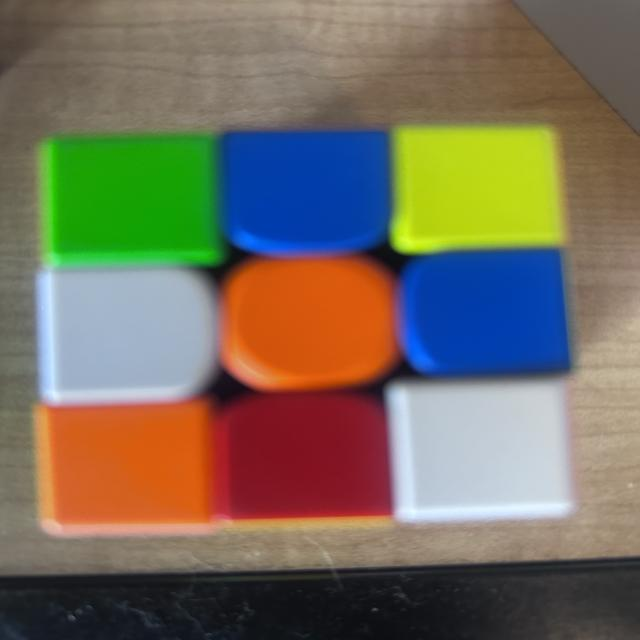sticker: (384, 376, 575, 526), (35, 397, 221, 539), (36, 269, 222, 407), (38, 133, 225, 270), (214, 388, 393, 528), (220, 256, 400, 392), (391, 125, 564, 258), (398, 250, 572, 379), (227, 132, 390, 257)
